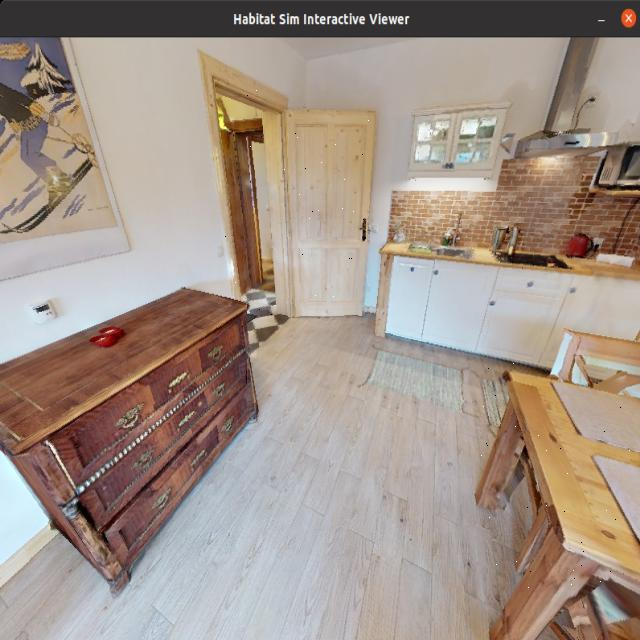door: (299, 113, 375, 314)
door-frame: (220, 85, 304, 342)
table: (477, 354, 640, 640)
